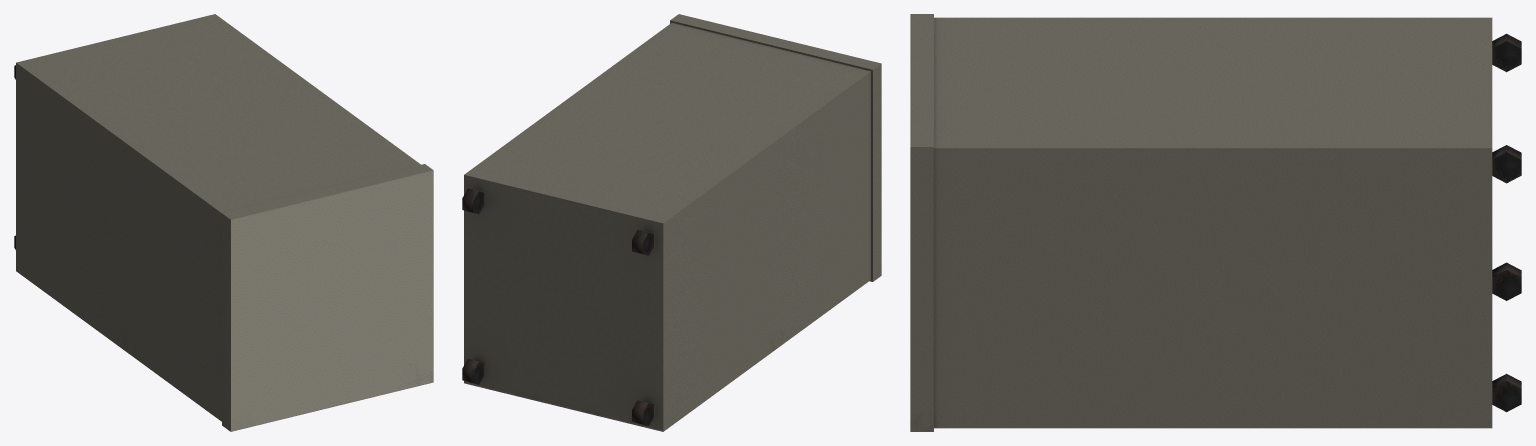
The model's file is BedsideTable2.obj.
3 renders of one model, left to right at view 1: azimuth 30°, elevation 25°; view 2: azimuth 150°, elevation 25°; view 3: azimuth 270°, elevation 25°, orthographic. The views are drawn at different scales.
Visible parts, largest first — view 1: BedsideTable; view 2: BedsideTable; view 3: BedsideTable.
Boxes of the visible parts, left/top/right/bottom form: BedsideTable: left=14, top=14, right=433, bottom=431; BedsideTable: left=462, top=14, right=881, bottom=431; BedsideTable: left=910, top=14, right=1521, bottom=431.
Bounding box in the file's own units: 0.4681 × 0.4771 × 0.9096.
1 material, 1 textured.
